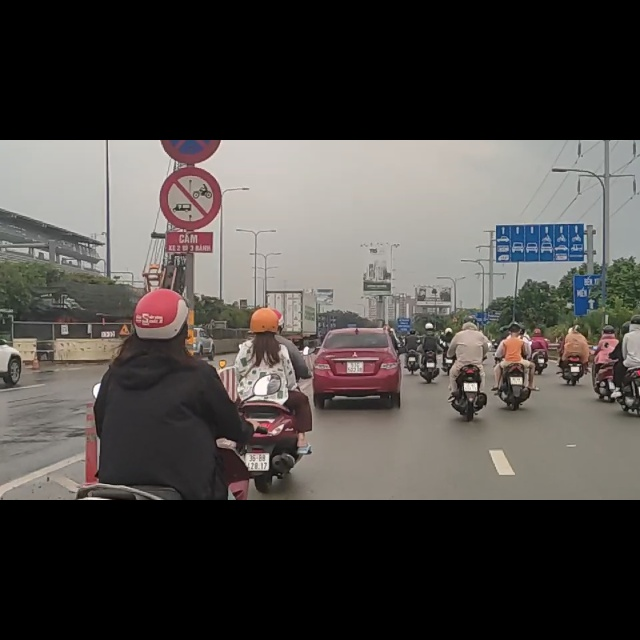bien_chi_dan: (161, 49, 221, 158)
